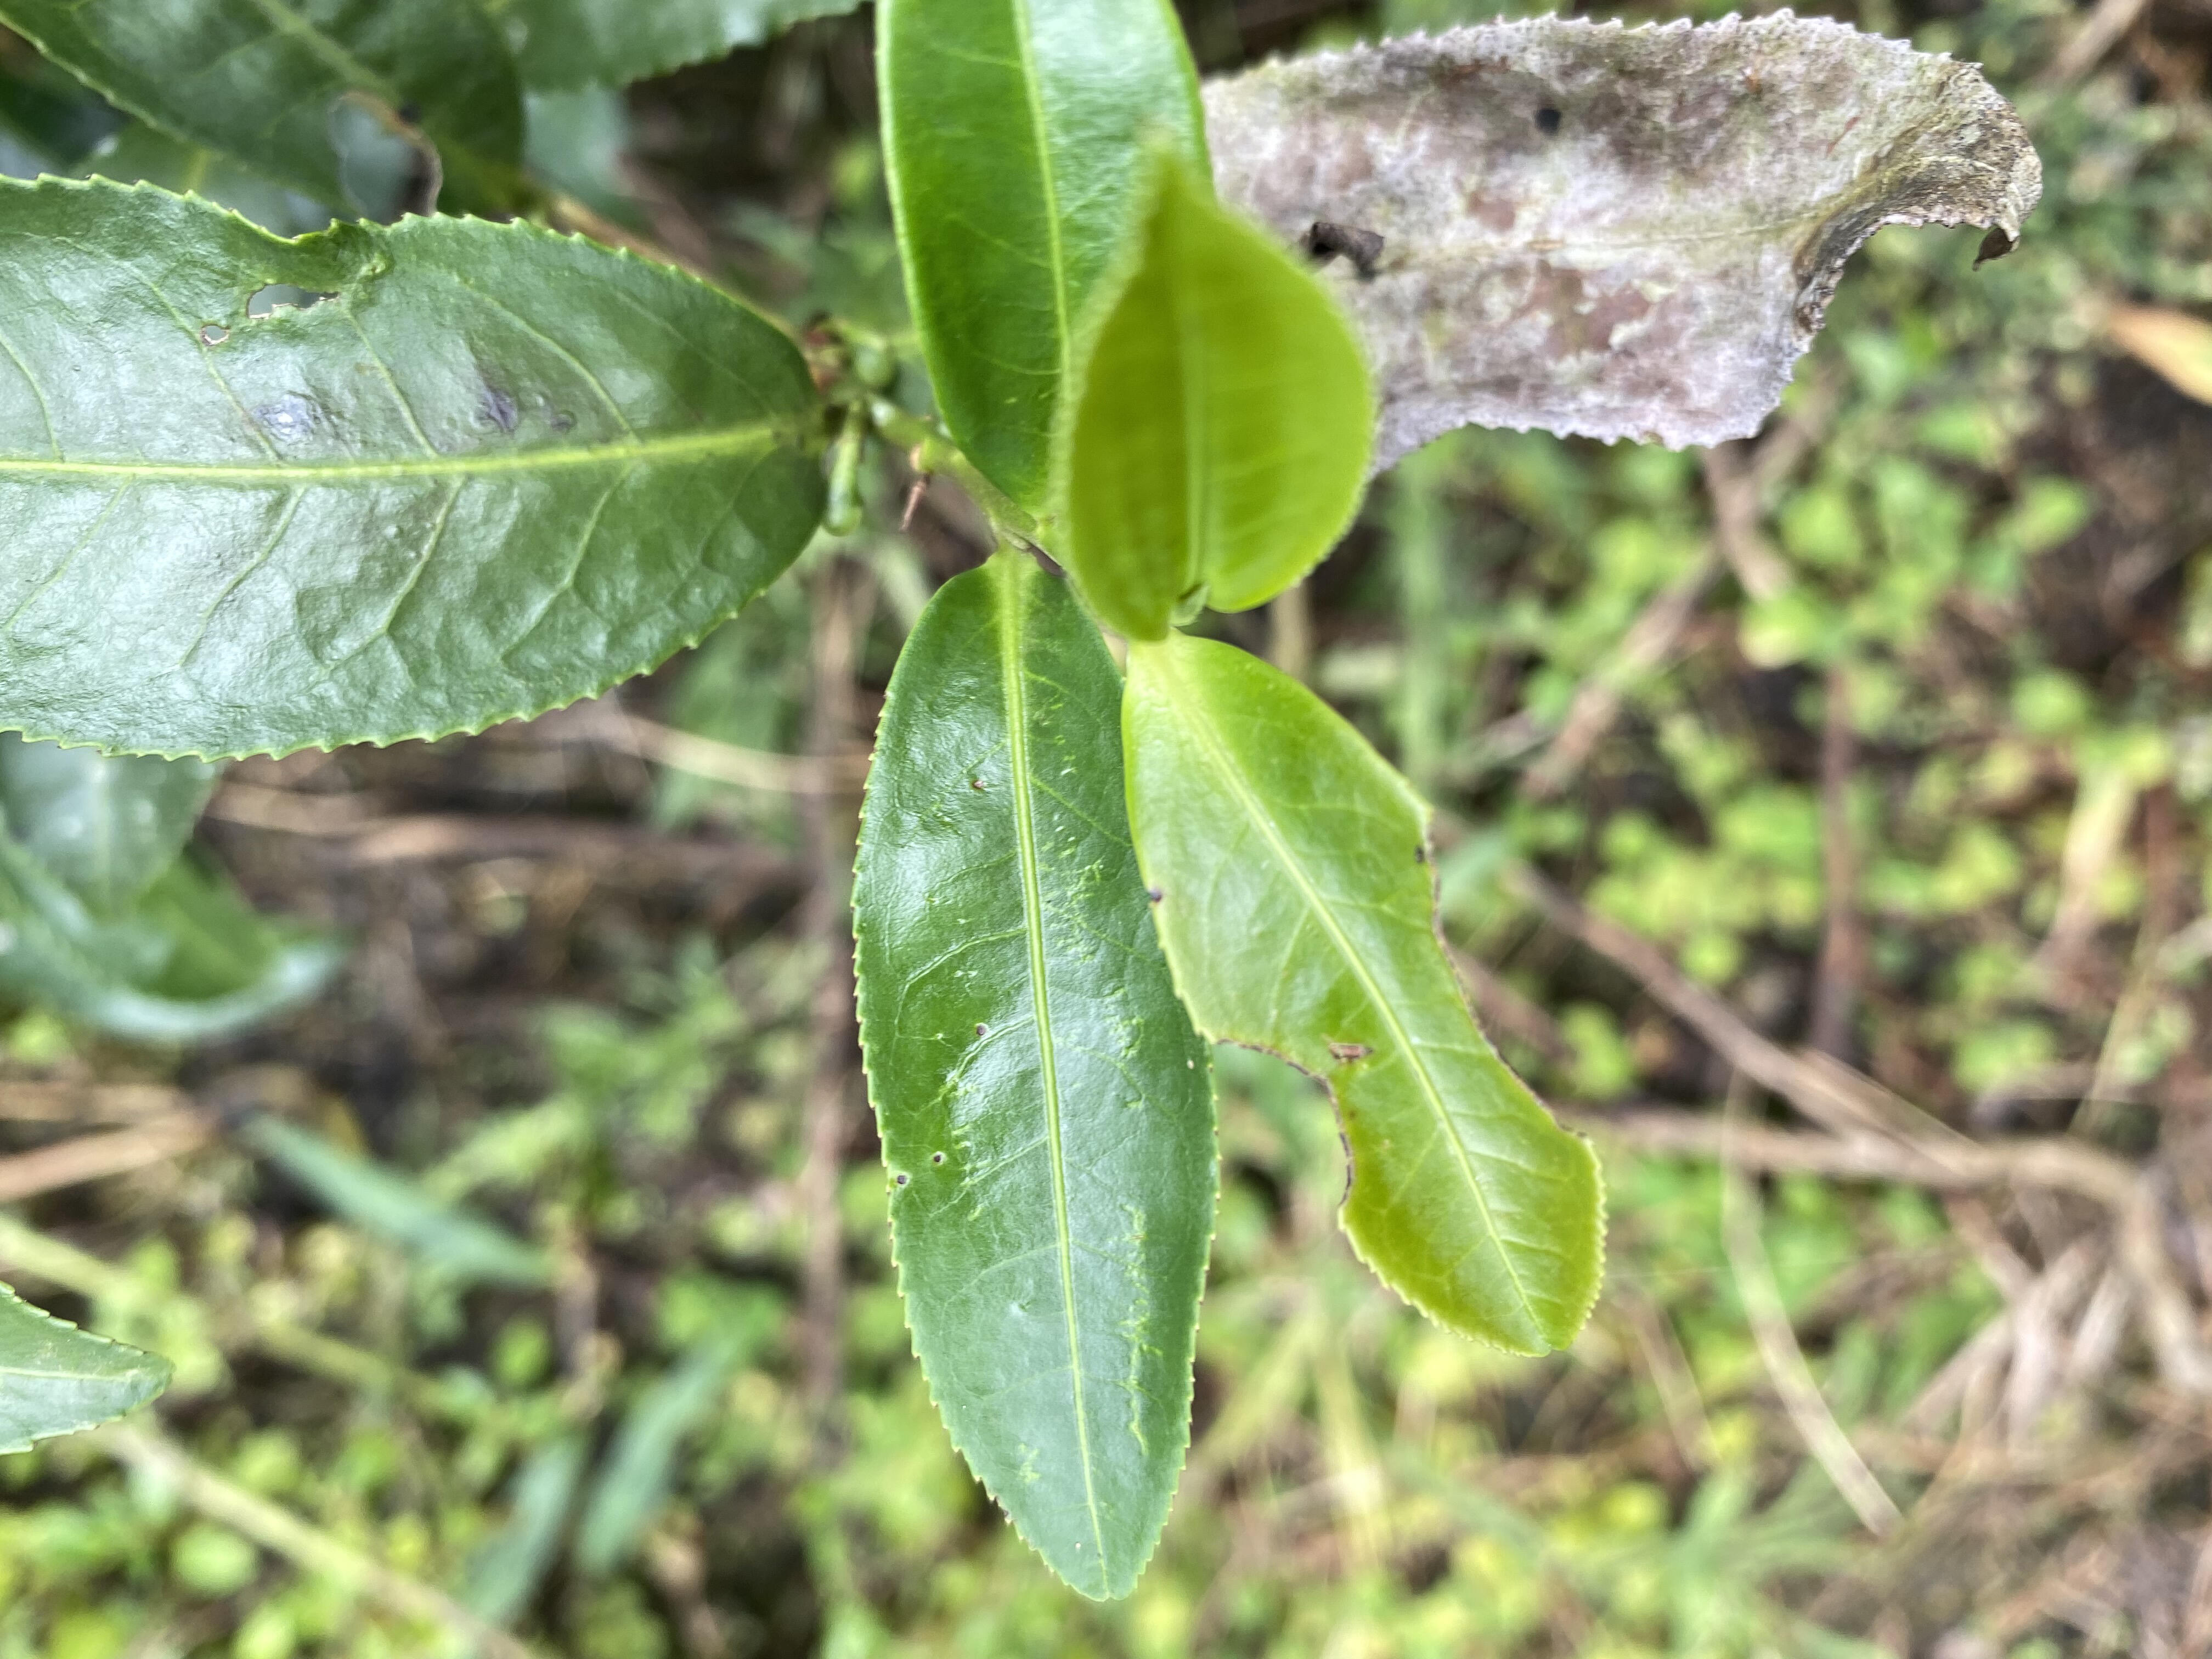chihuo_high: (1120, 634, 1604, 1354)
chihuo_low: (3, 166, 829, 763)
healthy: (864, 3, 1209, 519), (1052, 145, 1374, 647)
